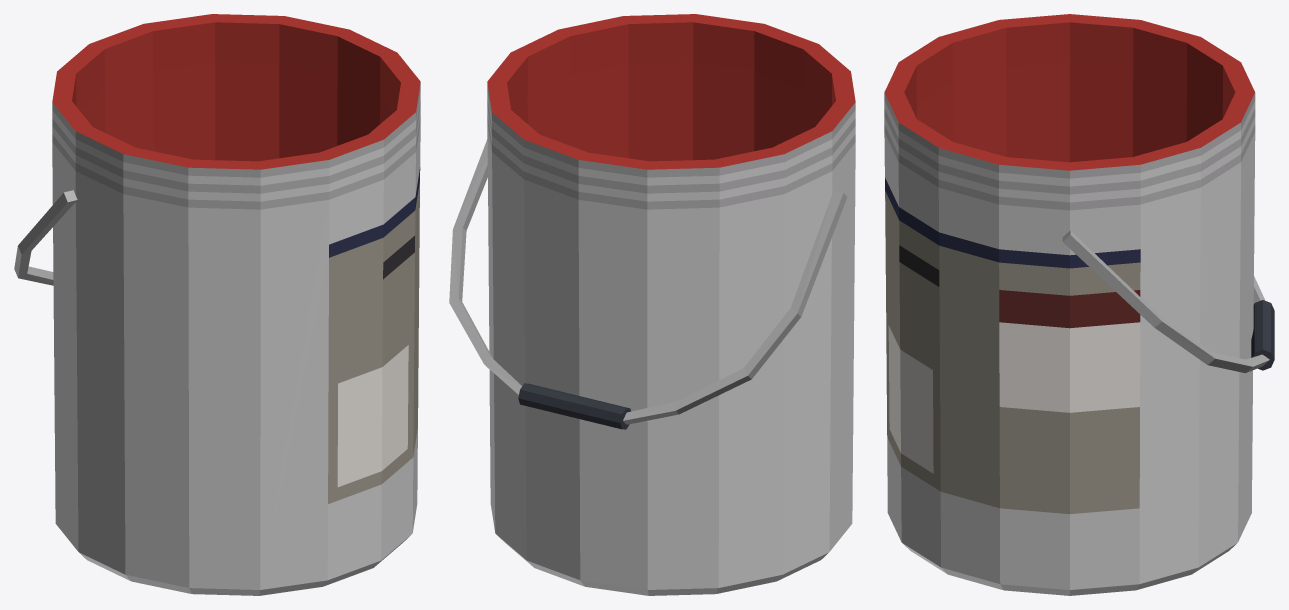
The model's file is SM_paint_bucket_2.gltf.
3 views of the same model, side by side, from view 1: azimuth 30°, elevation 25°; view 2: azimuth 150°, elevation 25°; view 3: azimuth 270°, elevation 25° (orthographic).
Parts seen in each view (by area): view 1: SM_paint_bucket_2; view 2: SM_paint_bucket_2; view 3: SM_paint_bucket_2.
Boxes of the visible parts, x1,y1,x2,y2 form: SM_paint_bucket_2: [14, 14, 420, 595]; SM_paint_bucket_2: [449, 14, 855, 595]; SM_paint_bucket_2: [884, 14, 1274, 595].
Size of the model in its own units: 0.4711 by 0.5638 by 0.4628.
1 material, 1 textured.
